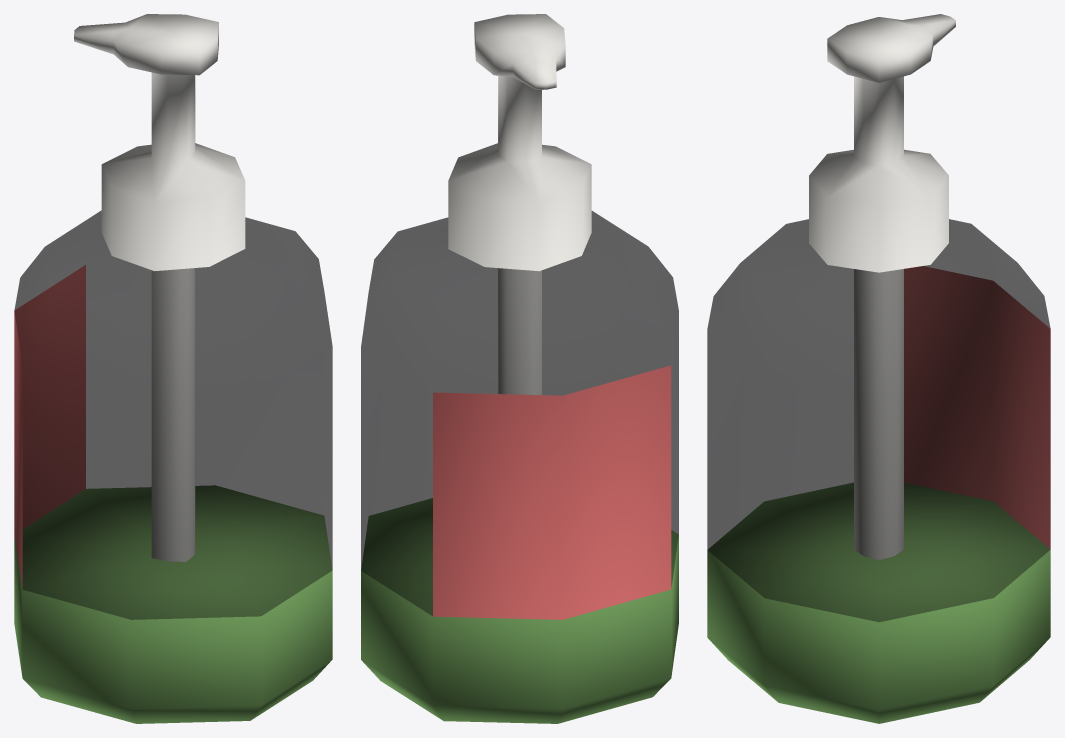
File: Whash_Bottle_01.fbx
The picture shows the model from 3 angles, left to right: view 1: azimuth 30°, elevation 25°; view 2: azimuth 150°, elevation 25°; view 3: azimuth 270°, elevation 25°; orthographic projection.
Visible parts, largest first — view 1: CR_Whash_Bottle_01; view 2: CR_Whash_Bottle_01; view 3: CR_Whash_Bottle_01.
Part boxes in pixels (left/top/right/bottom): CR_Whash_Bottle_01: left=14, top=14, right=332, bottom=723; CR_Whash_Bottle_01: left=361, top=14, right=678, bottom=723; CR_Whash_Bottle_01: left=707, top=14, right=1050, bottom=723.
Size of the model in its own units: 0.0819 by 0.1637 by 0.0819.
